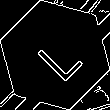L_NW: (26, 26, 84, 84)
